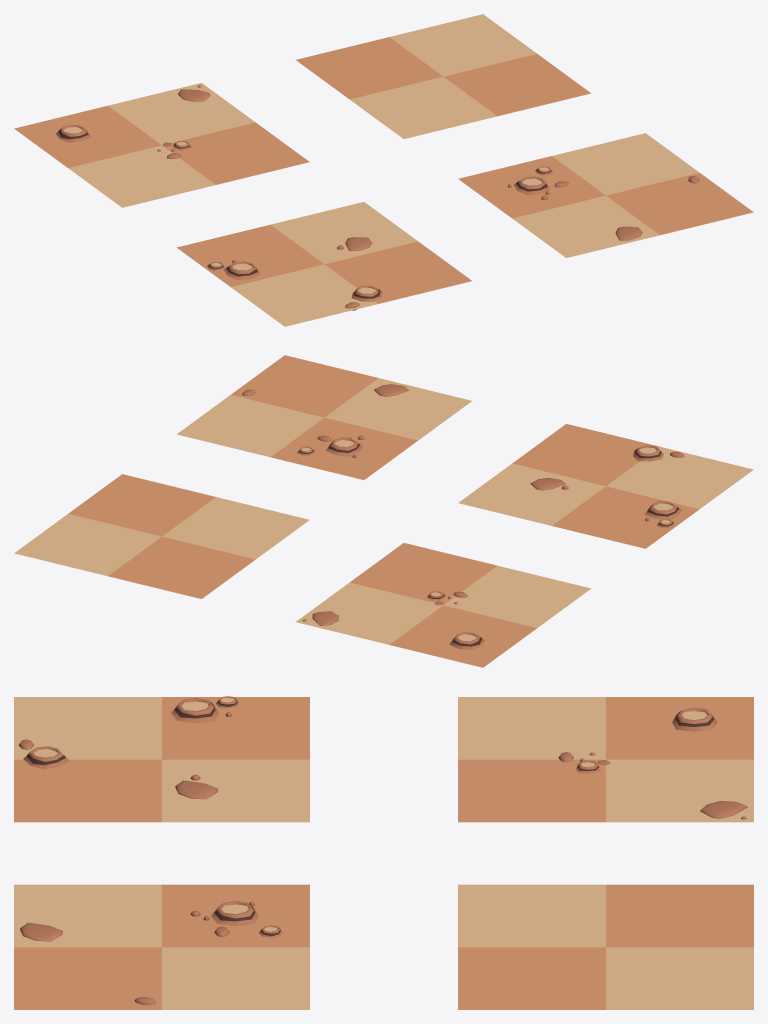
The model's file is PlainTER.fbx.
3 views of the same model, one above another, from view 1: azimuth 30°, elevation 25°; view 2: azimuth 150°, elevation 25°; view 3: azimuth 270°, elevation 25° (orthographic). The views are drawn at different scales.
Parts seen in each view (by area): view 1: Плоскость.003, Плоскость.001, Плоскость.002, Плоскость; view 2: Плоскость.003, Плоскость.001, Плоскость.002, Плоскость; view 3: Плоскость.003, Плоскость.001, Плоскость.002, Плоскость, Куб.004, Куб.007, Куб.015.
Part boxes in pixels (x1,y1,x2,y2): Плоскость.003: [296, 14, 590, 138]; Плоскость.001: [177, 202, 471, 326]; Плоскость.002: [14, 83, 309, 207]; Плоскость: [458, 133, 753, 257]; Плоскость.003: [14, 474, 309, 598]; Плоскость.001: [458, 424, 753, 548]; Плоскость.002: [296, 543, 590, 667]; Плоскость: [177, 355, 471, 479]; Плоскость.003: [458, 884, 753, 1009]; Плоскость.001: [14, 696, 309, 822]; Плоскость.002: [458, 697, 753, 822]; Плоскость: [14, 884, 309, 1009]; Куб.004: [20, 922, 62, 941]; Куб.007: [175, 780, 217, 799]; Куб.015: [700, 801, 747, 818].
Size of the model in its own units: 500 by 9.17 by 500.
